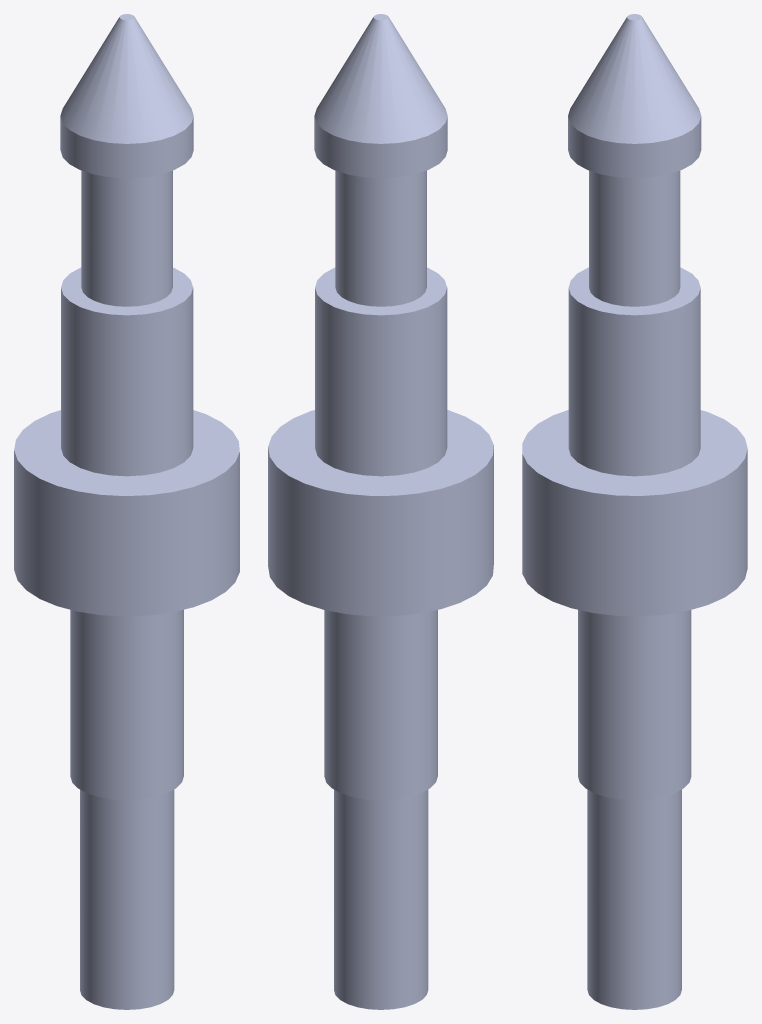
The model's file is Mini Post 8-32 Thread.fbx.
3 renders of one model, left to right at view 1: azimuth 30°, elevation 25°; view 2: azimuth 150°, elevation 25°; view 3: azimuth 270°, elevation 25°, orthographic.
Parts seen in each view (by area): view 1: Mini Post 8-32 Thread; view 2: Mini Post 8-32 Thread; view 3: Mini Post 8-32 Thread.
Part boxes in pixels (box(x1,y1,x2,y2)): Mini Post 8-32 Thread: box(14, 14, 239, 1009); Mini Post 8-32 Thread: box(268, 14, 493, 1009); Mini Post 8-32 Thread: box(522, 14, 747, 1009).
Size of the model in its own units: 0.946 by 4.5 by 0.9446.
